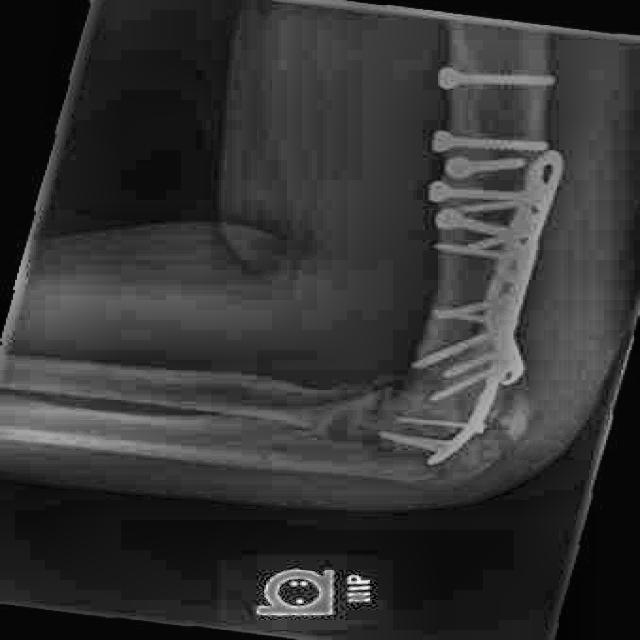elbow positive: (454, 387, 573, 474)
